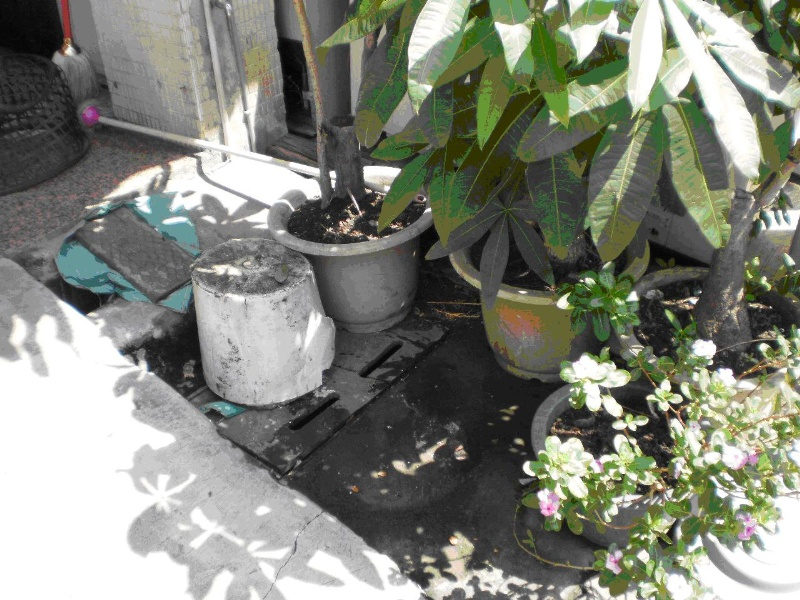bucket: (190, 238, 335, 409)
